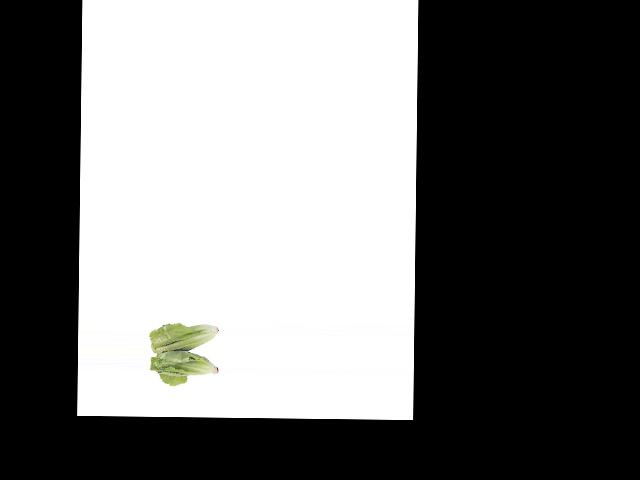lettuce: (149, 319, 219, 379)
